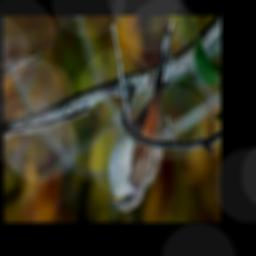Cuckoo: (109, 19, 174, 212)
